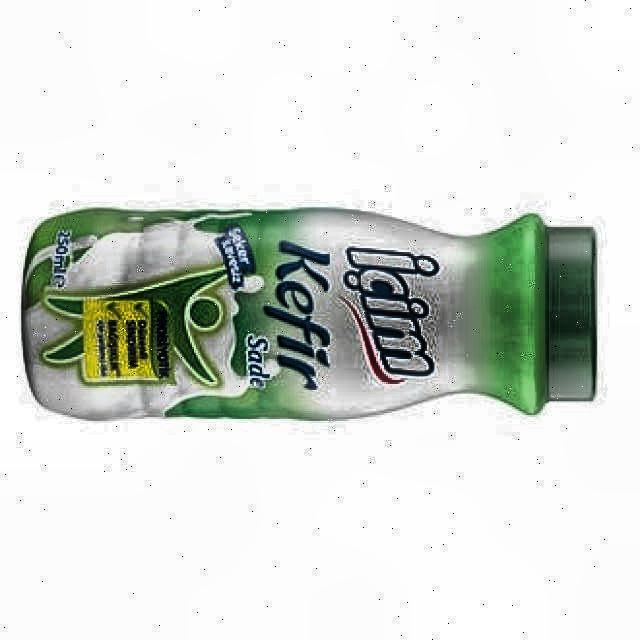plastic: (22, 208, 594, 419)
